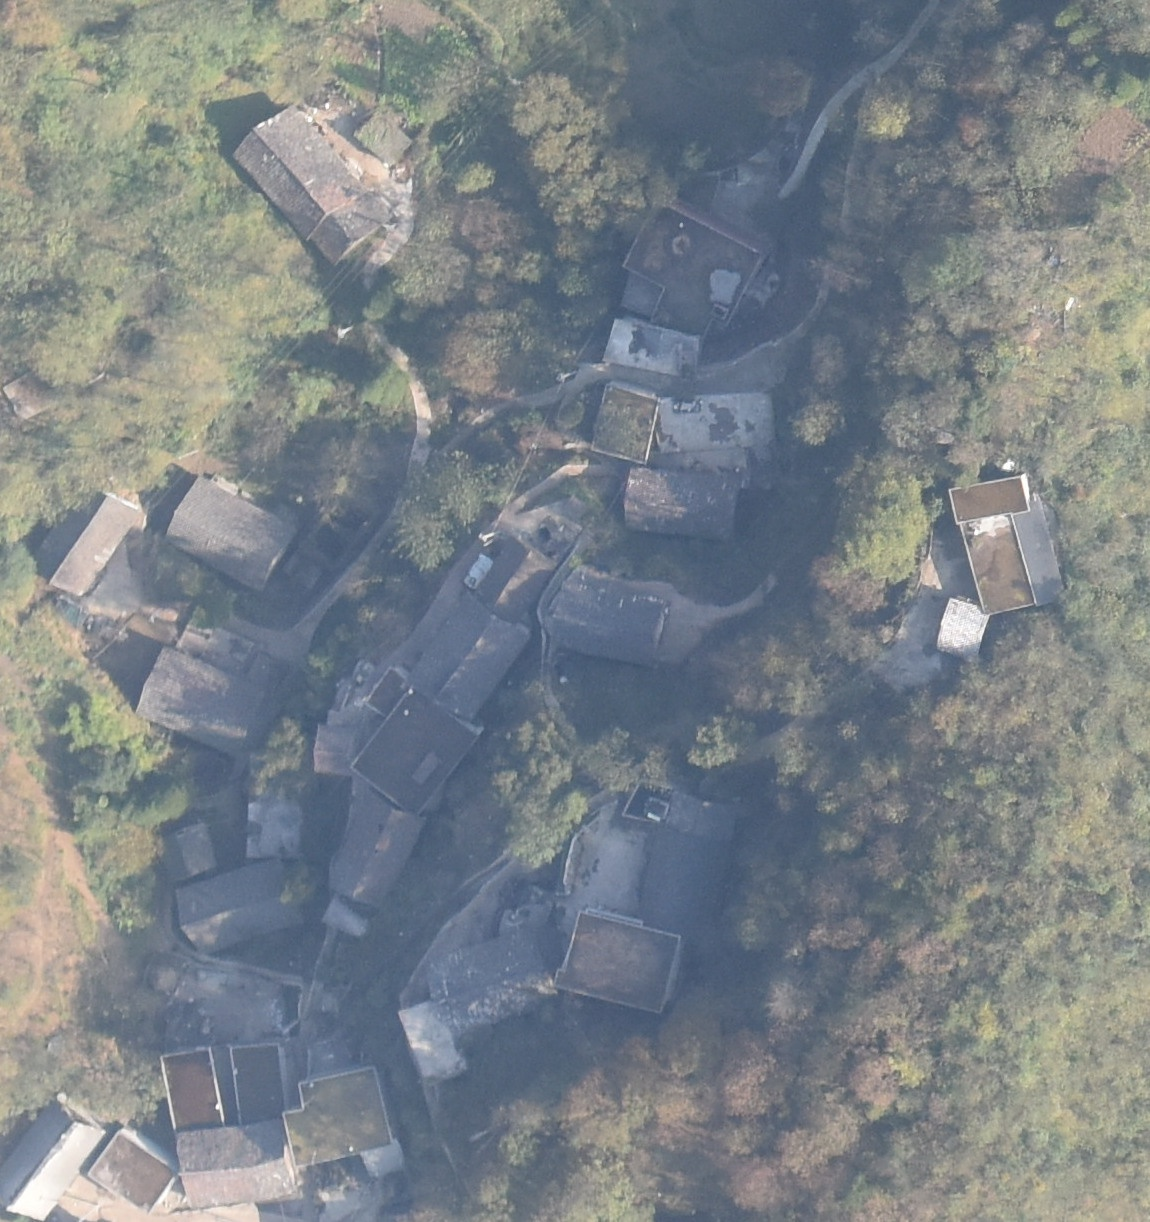building: (232, 106, 393, 260), (620, 201, 765, 335), (347, 687, 485, 817), (402, 595, 529, 723), (165, 474, 299, 592), (135, 645, 268, 758), (552, 907, 682, 1015), (427, 930, 560, 1033), (175, 855, 307, 956), (34, 483, 142, 602), (330, 788, 427, 908), (176, 1120, 300, 1209), (284, 1066, 395, 1166), (13, 1102, 102, 1220), (548, 580, 671, 664), (624, 466, 741, 541), (88, 1128, 183, 1213), (958, 515, 1040, 614), (474, 535, 562, 625), (652, 394, 778, 455), (602, 314, 703, 377), (395, 999, 469, 1083), (159, 1046, 230, 1132), (591, 382, 663, 464), (229, 1040, 290, 1122), (174, 618, 256, 677), (947, 474, 1034, 524), (937, 597, 993, 664), (160, 823, 222, 883), (246, 800, 305, 860), (355, 110, 413, 165), (313, 724, 362, 777), (319, 892, 375, 937), (360, 1139, 405, 1177)
vehicle: (465, 551, 494, 589)
